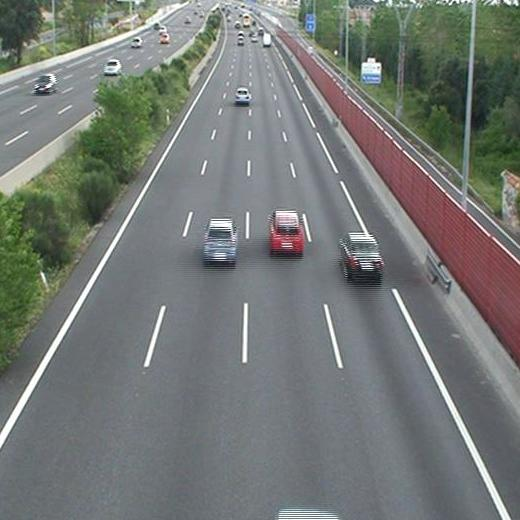car: (340, 234, 382, 276), (203, 219, 236, 261), (271, 211, 303, 250), (235, 88, 250, 103)
van: (262, 32, 271, 46)
